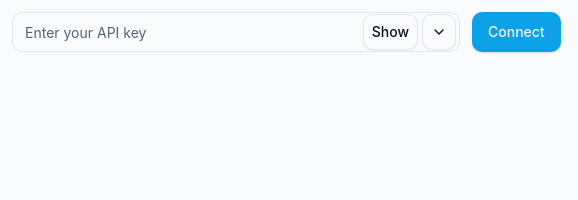
Scenario: ApiKeyInput › should show history dropdown when available
Click the button named "select from history" at (439, 32), box [422, 14, 456, 50]
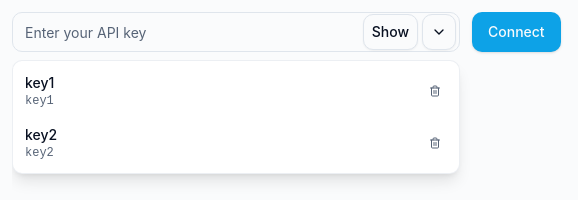
Expected: the 1st text "key1" is shown, [25, 73, 54, 93]
Expected: the 1st text "key2" is shown, [25, 125, 57, 145]
